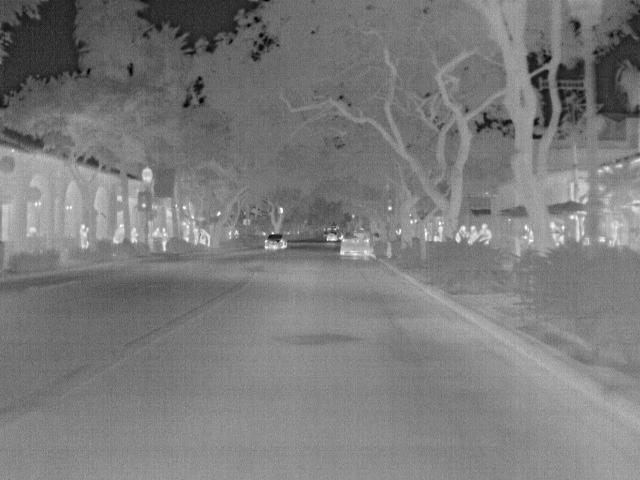car: (338, 229, 373, 258), (262, 230, 286, 250), (325, 228, 342, 243)
person: (476, 221, 495, 245), (76, 222, 92, 250), (109, 222, 126, 243), (517, 223, 535, 242), (158, 226, 170, 252), (454, 224, 468, 243), (127, 225, 140, 244), (466, 223, 478, 243)
